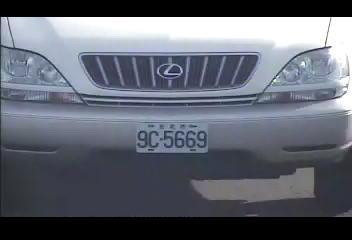plate: (134, 121, 210, 155)
